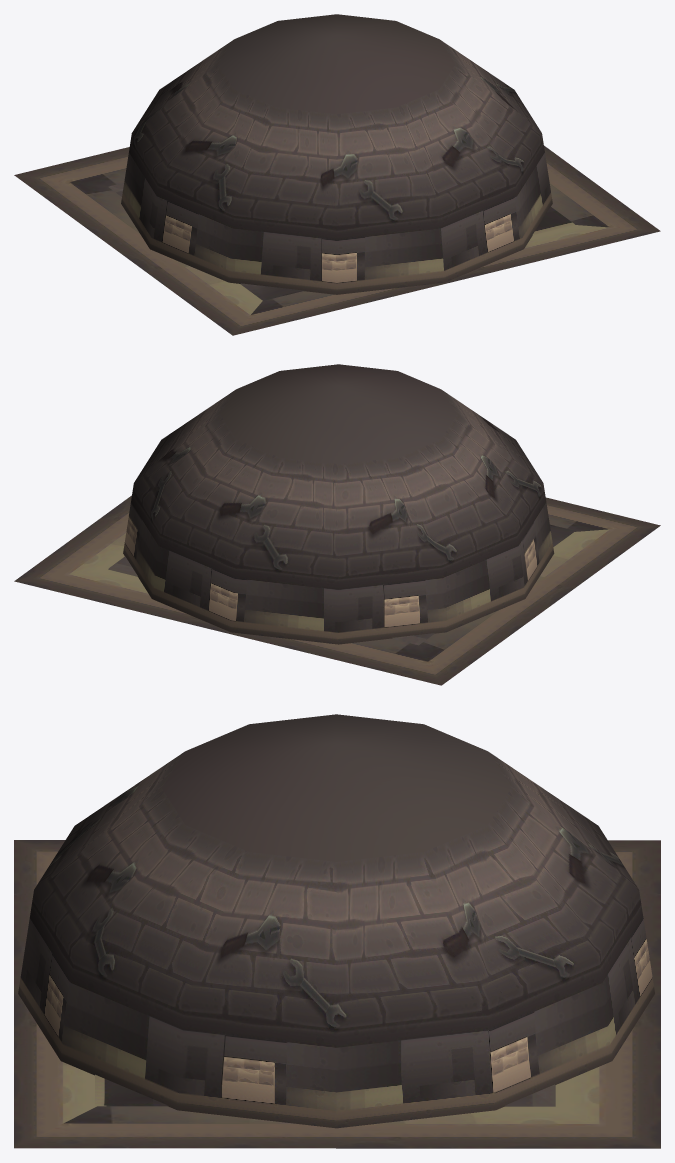
The model's file is Combined_Mesh_root_scene__8_c5249964__junkyard_diffuse_01_d_61d56bd9_c1f257.obj.
3 renders of one model, top to bottom at view 1: azimuth 30°, elevation 25°; view 2: azimuth 150°, elevation 25°; view 3: azimuth 270°, elevation 25°, orthographic. The views are drawn at different scales.
Size of the model in its own units: 109 by 41.29 by 96.33.
Materials: 294 (294 with a texture image).
